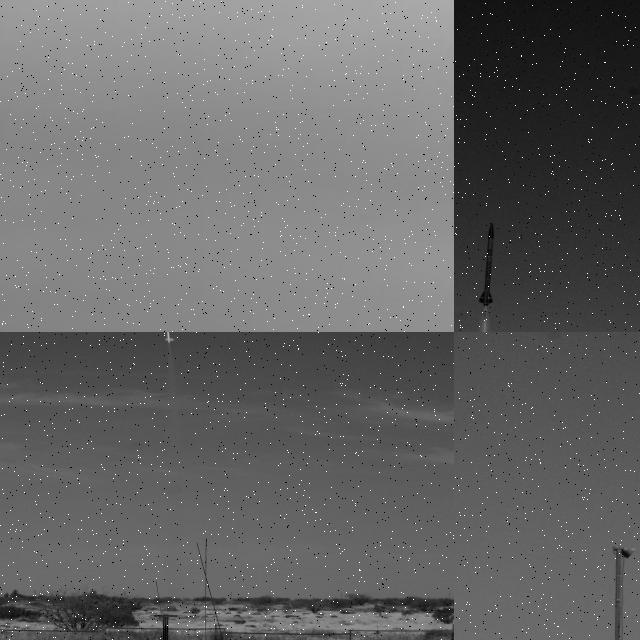Rocket: (478, 221, 494, 307), (164, 332, 174, 343)
